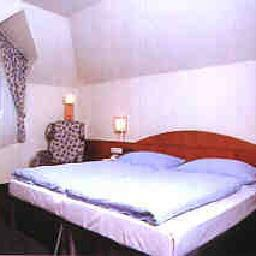Cama: (11, 155, 248, 217)
